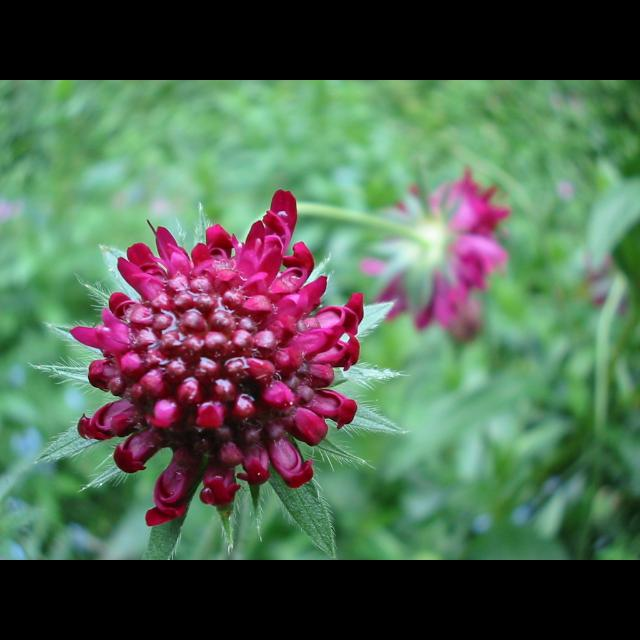Flower: (70, 190, 366, 522), (362, 166, 512, 346)
